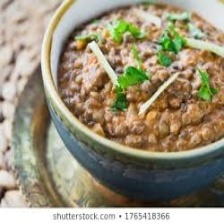sabzi: (57, 2, 224, 154)
